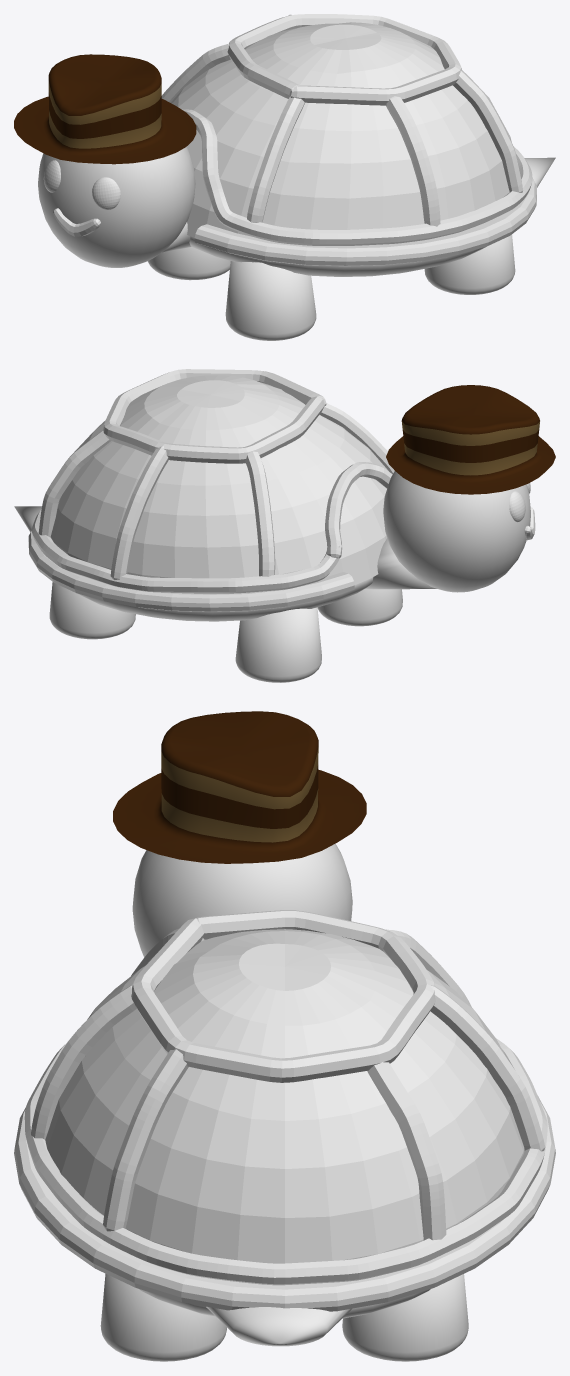
Rendered from turtle.fbx.
3 views of the same model, one above another, from view 1: azimuth 30°, elevation 25°; view 2: azimuth 150°, elevation 25°; view 3: azimuth 270°, elevation 25° (orthographic). The views are drawn at different scales.
Visible parts, largest first — view 1: Shell, Circle, Sphere, Cube, Cube.002, Leg_up_left, Leg_down_left, Body, Cube.007, Cube.001, Cube.006, Leg_up_right (+5 smaller); view 2: Shell, Circle, Sphere, Cube, Cube.002, Leg_up_right, Leg_down_right, Cube.004, Leg_up_left, Body, Cube.003, Cube.005 (+3 smaller); view 3: Shell, Circle, Cube.002, Cube, Sphere, Leg_down_right, Leg_down_left, Cube.006, Cube.005, Cube.004, Cone, Cube.007 (+2 smaller).
Part boxes in pixels (left/top/right/bottom): Shell: left=170, top=22, right=536, bottom=266; Circle: left=14, top=54, right=196, bottom=164; Sphere: left=38, top=146, right=195, bottom=267; Cube: left=182, top=109, right=532, bottom=245; Cube.002: left=227, top=14, right=461, bottom=105; Leg_up_left: left=225, top=261, right=316, bottom=340; Leg_down_left: left=424, top=234, right=515, bottom=294; Body: left=189, top=236, right=486, bottom=276; Cube.007: left=386, top=96, right=440, bottom=226; Cube.001: left=247, top=97, right=304, bottom=222; Cube.006: left=453, top=70, right=522, bottom=192; Leg_up_right: left=148, top=247, right=230, bottom=280; Shell: left=28, top=375, right=388, bottom=611; Circle: left=386, top=385, right=555, bottom=494; Sphere: left=383, top=471, right=530, bottom=592; Cube: left=31, top=462, right=392, bottom=593; Cube.002: left=103, top=369, right=326, bottom=463; Leg_up_right: left=235, top=607, right=321, bottom=682; Leg_down_right: left=49, top=582, right=135, bottom=639; Cube.004: left=110, top=446, right=168, bottom=579; Leg_up_left: left=317, top=589, right=402, bottom=626; Body: left=76, top=577, right=373, bottom=621; Cube.003: left=245, top=451, right=275, bottom=576; Cube.005: left=38, top=430, right=110, bottom=537; Shell: left=14, top=929, right=555, bottom=1311; Circle: left=113, top=711, right=366, bottom=863; Cube.002: left=131, top=910, right=435, bottom=1082; Cube: left=24, top=1038, right=547, bottom=1285; Sphere: left=132, top=843, right=352, bottom=957; Leg_down_right: left=342, top=1274, right=468, bottom=1361; Leg_down_left: left=100, top=1273, right=226, bottom=1361; Cube.006: left=103, top=1049, right=188, bottom=1231; Cube.005: left=367, top=1062, right=446, bottom=1240; Cube.004: left=430, top=985, right=545, bottom=1151; Cone: left=206, top=1306, right=351, bottom=1346; Cube.007: left=31, top=984, right=136, bottom=1139.
Size of the model in its own units: 406 by 191 by 253.
